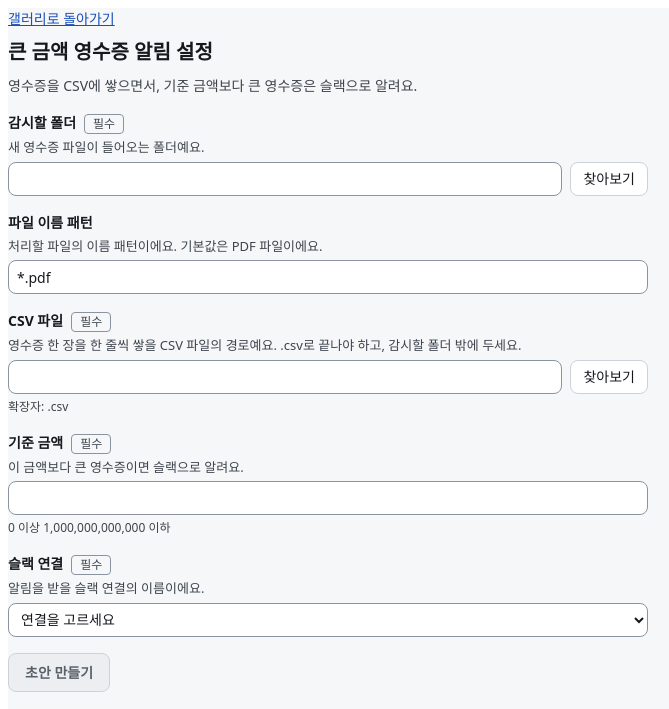
RecipeForm picker timing › keeps what was typed in other fields while the picker was open
This screenshot has width=669, height=709.
Click the 1st button "찾아보기" at (609, 178), box top-left (570, 162), bottom-right (648, 196)
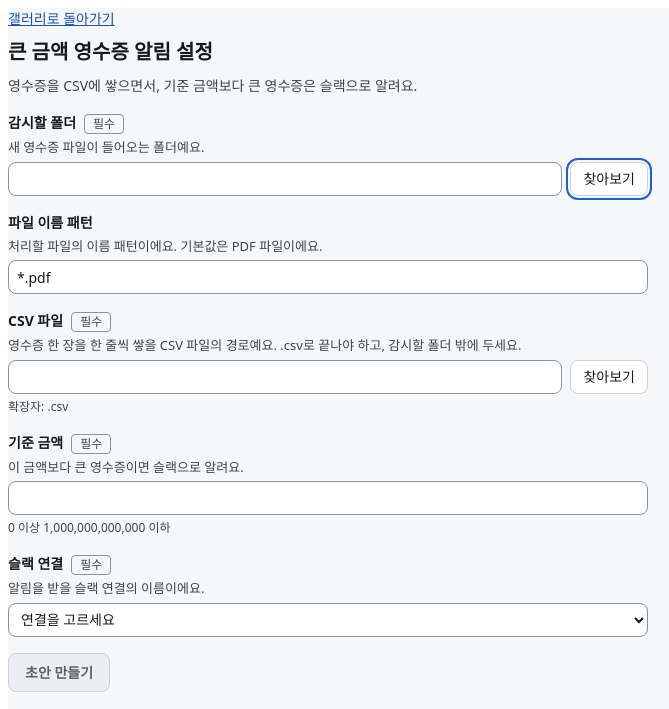
Type "/Users/demo/out.csv" into the field labelled "CSV 파일" at (285, 376), box top-left (8, 360), bottom-right (562, 394)
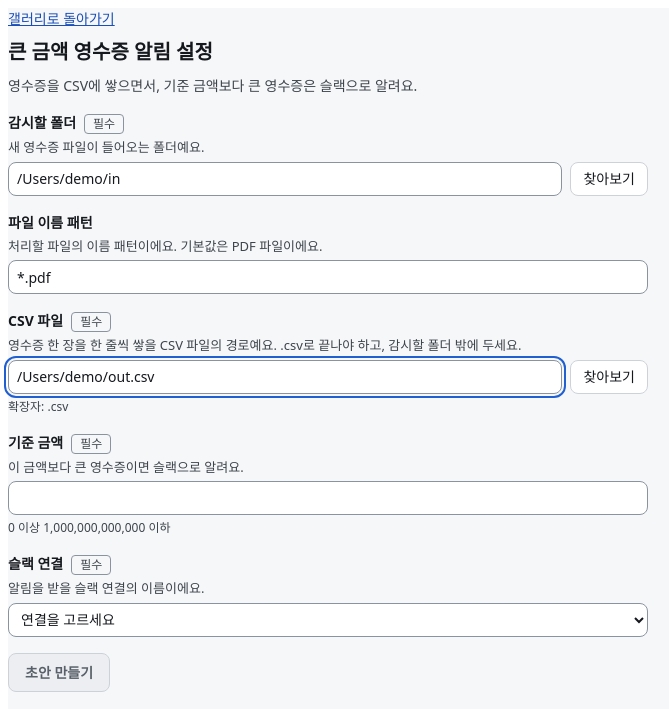
Expected: the field labelled "감시할 폴더" holds "/Users/demo/in", top-left (8, 162), bottom-right (562, 196)
